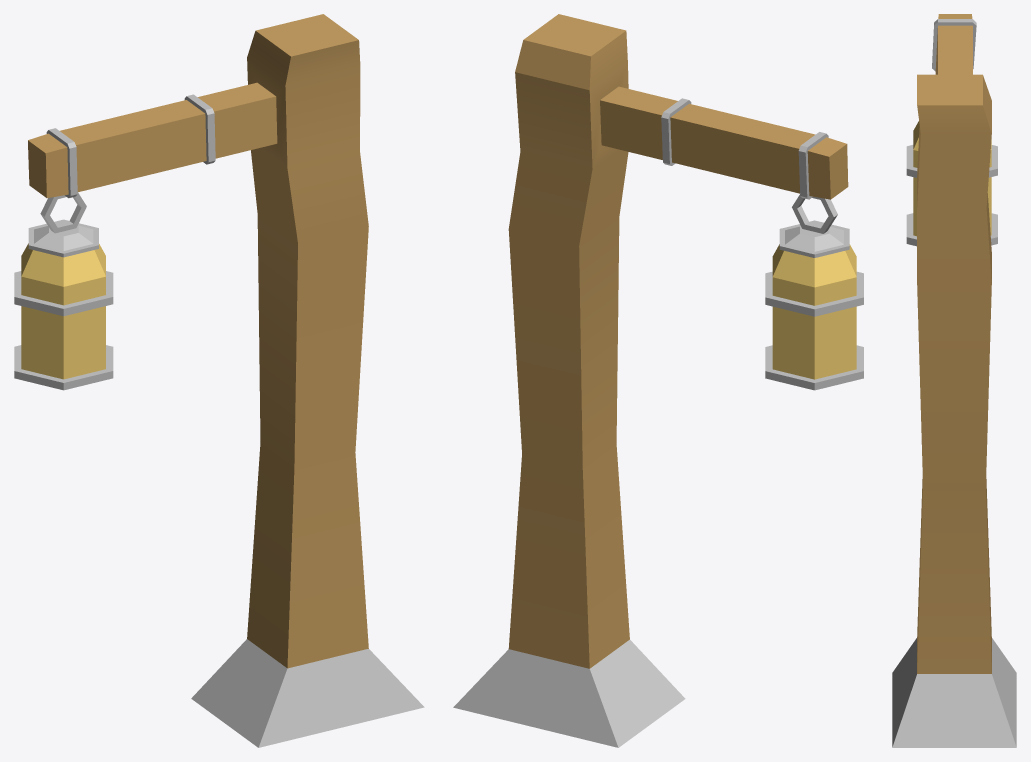
The model's file is Lamp.fbx.
3 renders of one model, left to right at view 1: azimuth 30°, elevation 25°; view 2: azimuth 150°, elevation 25°; view 3: azimuth 270°, elevation 25°, orthographic. The views are drawn at different scales.
Visible parts, largest first — view 1: Lamp1; view 2: Lamp1; view 3: Lamp1.
Part boxes in pixels (<box>): Lamp1: <box>14,14,424,747</box>; Lamp1: <box>453,14,863,747</box>; Lamp1: <box>892,14,1016,747</box>.
Bounding box in the file's own units: 6.8 × 11.52 × 2.1.
